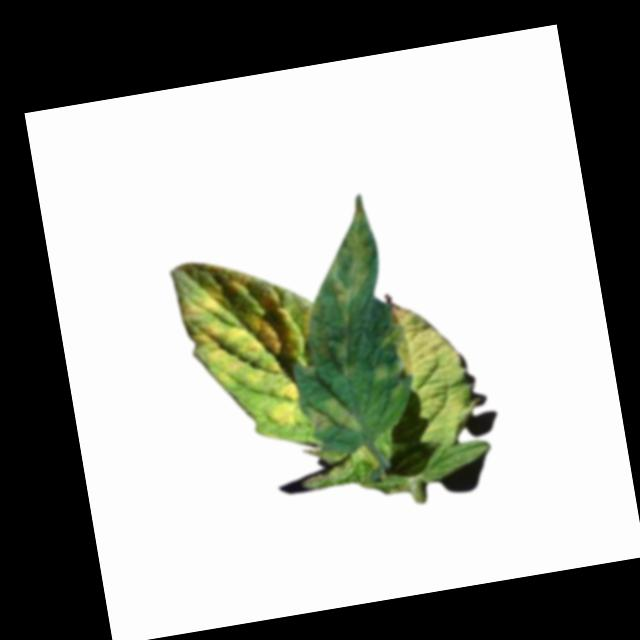Leaf_Mold: (171, 243, 321, 397), (384, 294, 479, 439), (319, 202, 388, 331), (307, 389, 369, 436), (263, 379, 306, 433), (331, 335, 359, 381)
